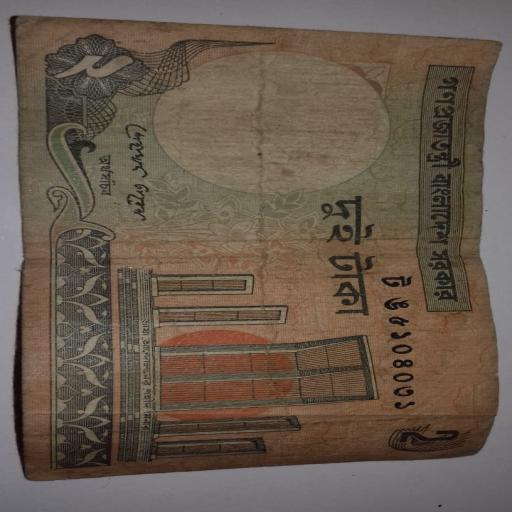2taka: (13, 16, 499, 480)
